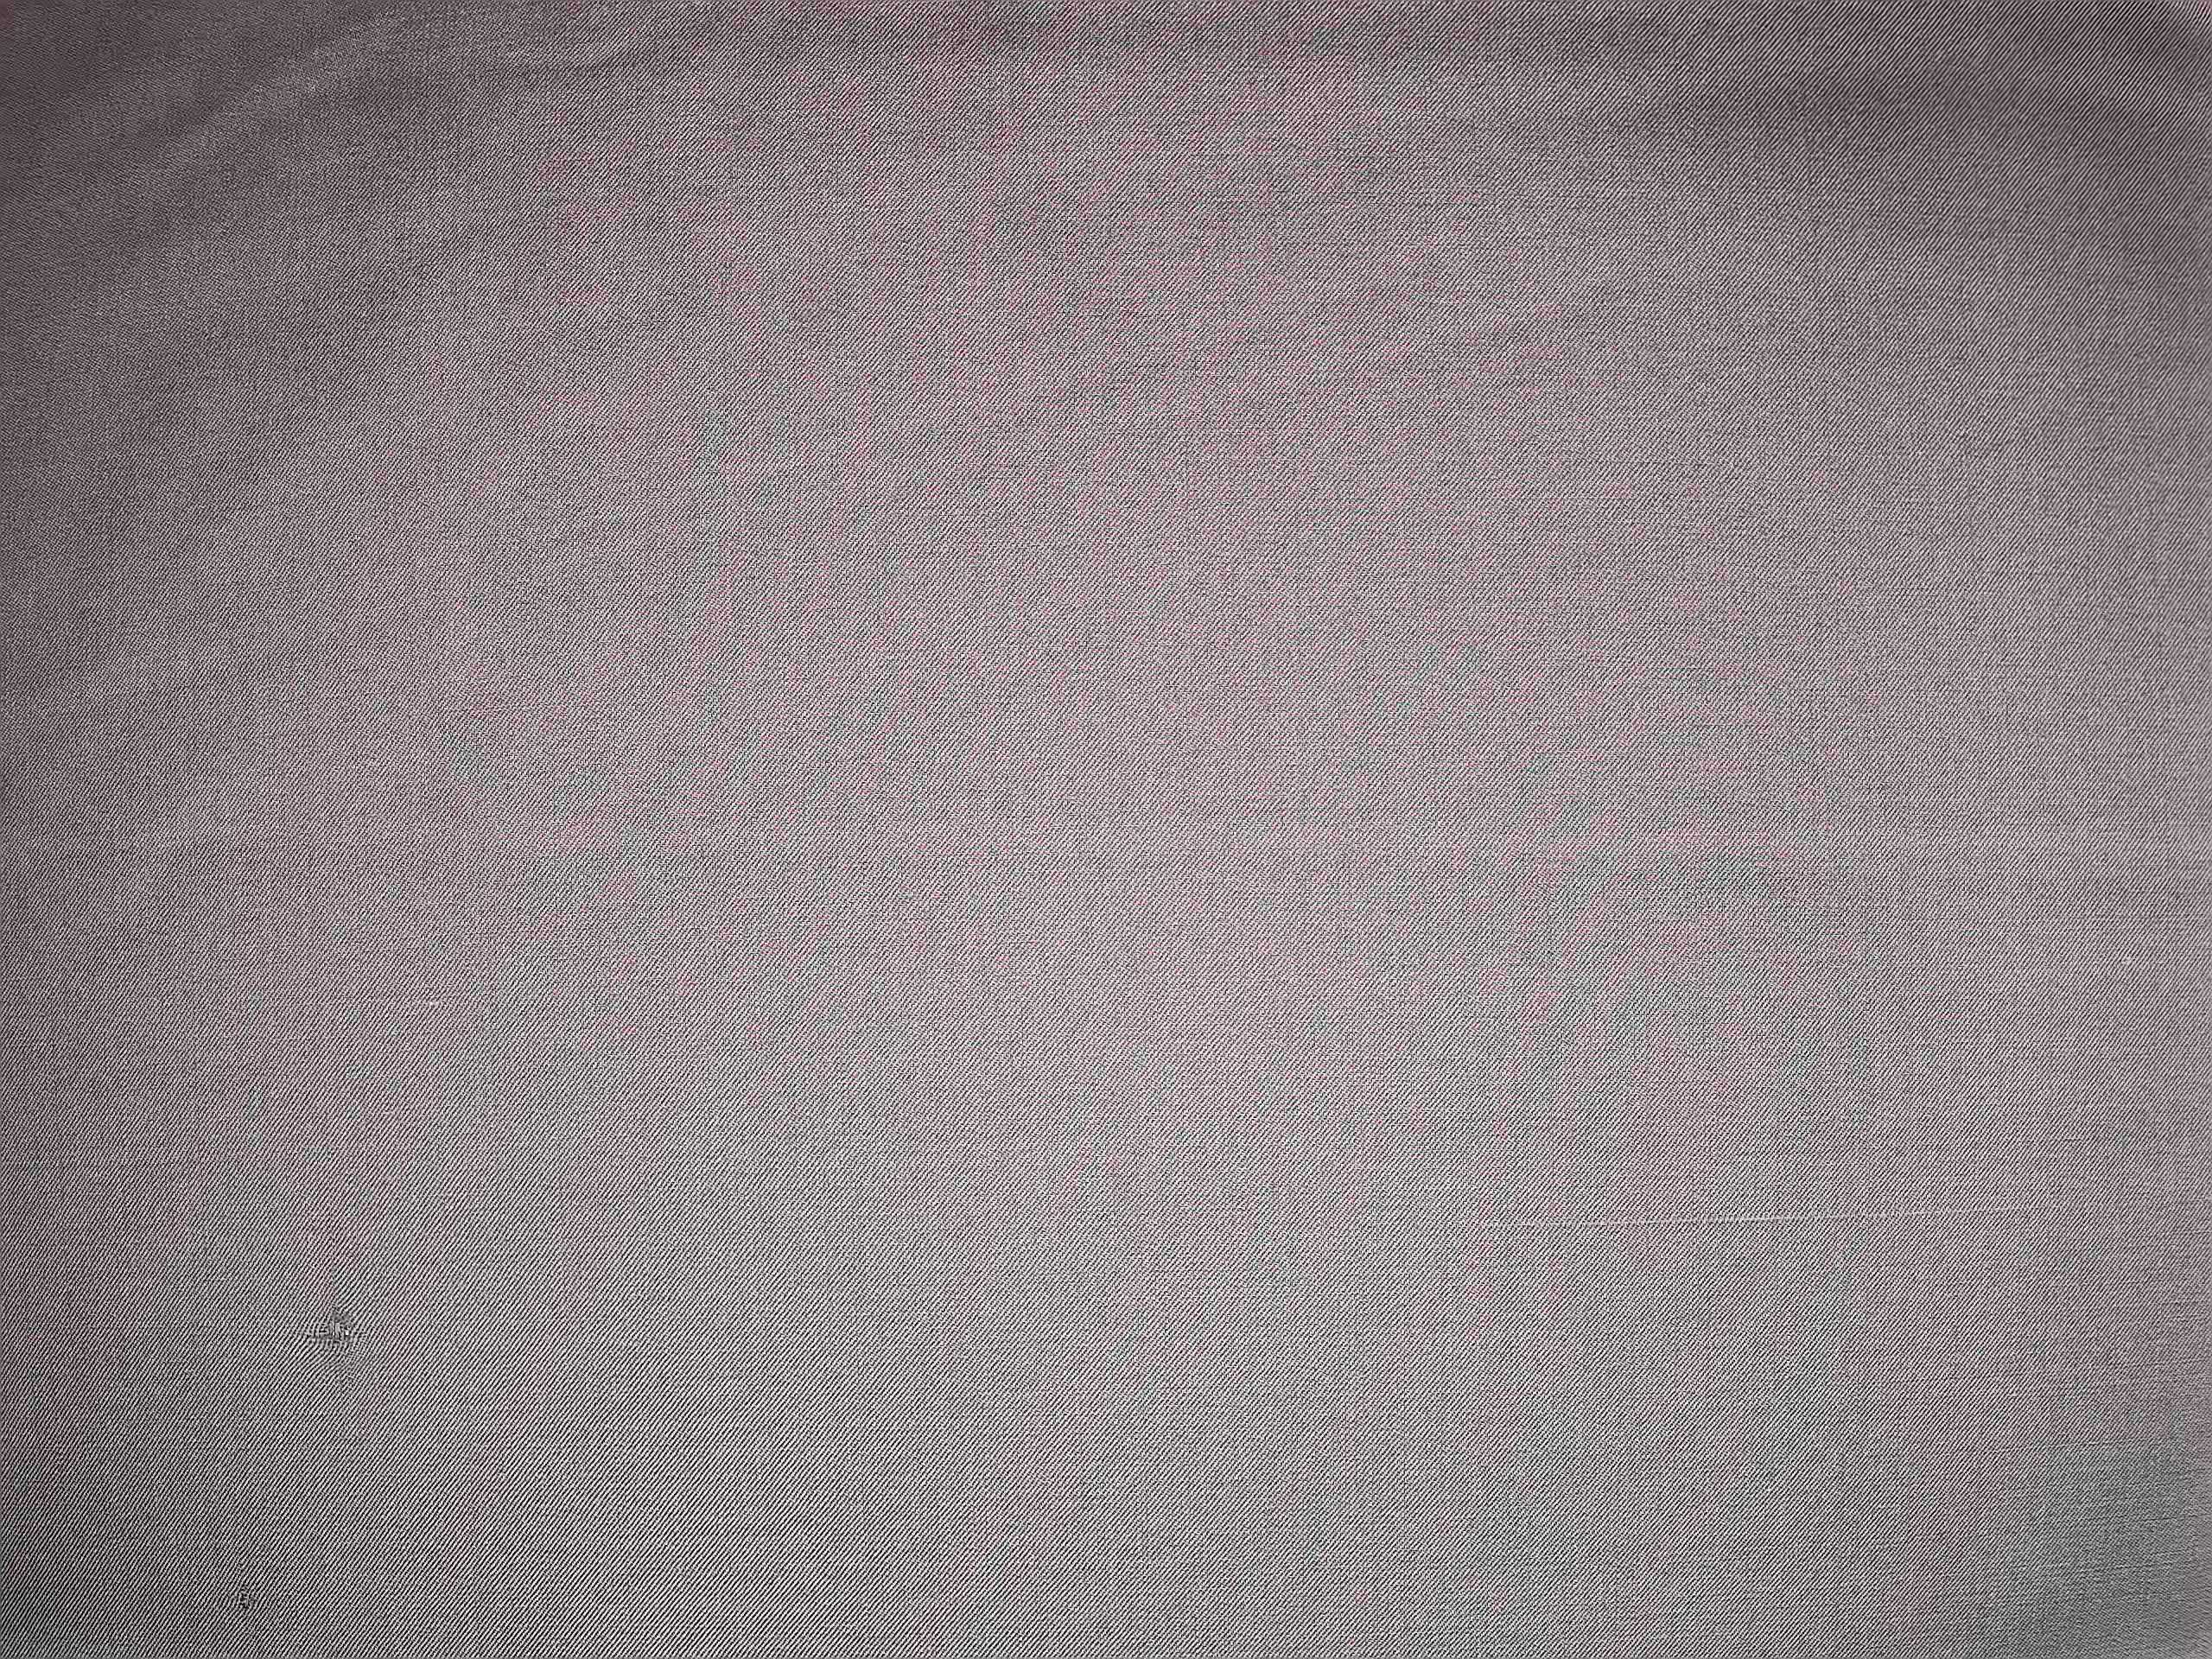knots: (287, 1300, 373, 1377), (211, 1572, 279, 1628)
